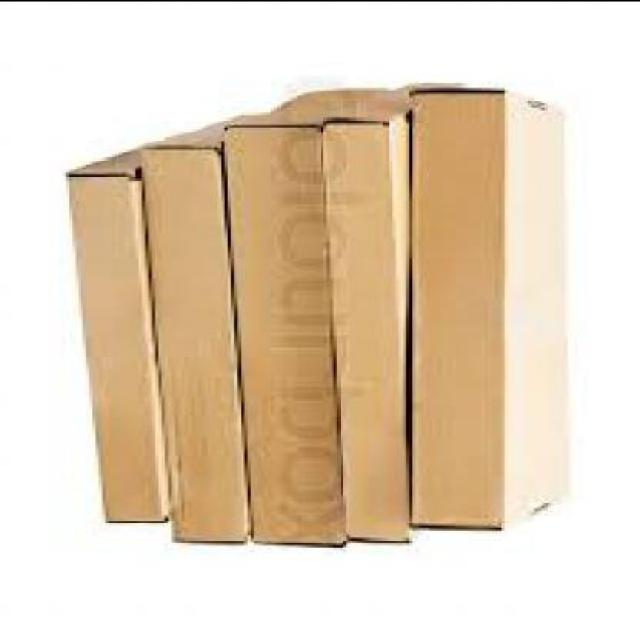CARDBOARD: (406, 84, 574, 528), (320, 79, 465, 541), (234, 82, 369, 543), (142, 110, 270, 542), (82, 131, 175, 518)
